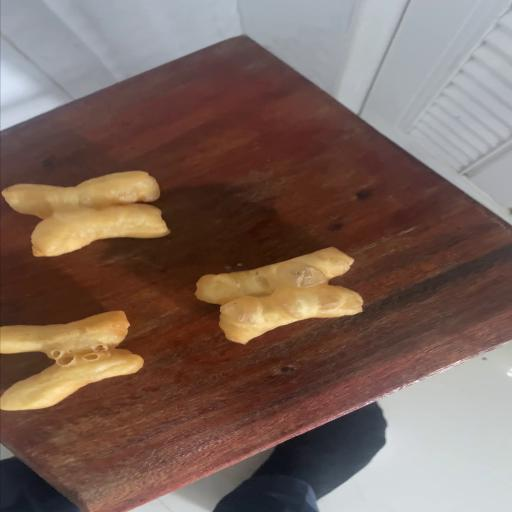street_golden_defect: (196, 249, 362, 342), (0, 311, 142, 410)
street_golden_good: (0, 171, 168, 255)
